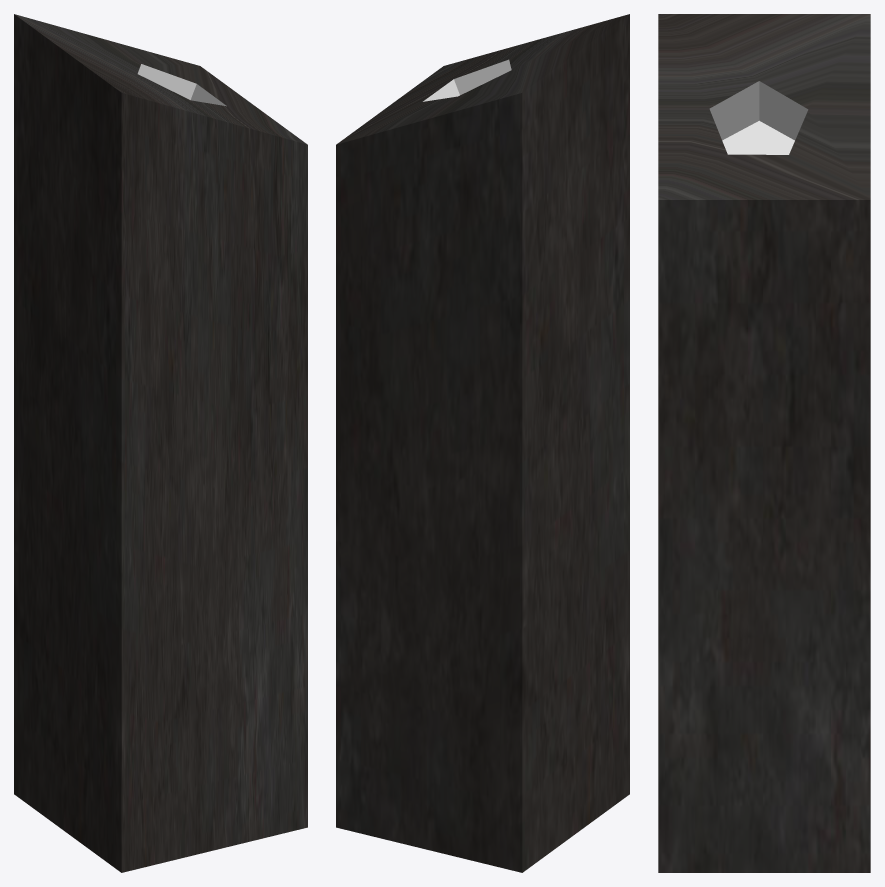
Rendered from pentaConsole.gltf.
3 renders of one model, left to right at view 1: azimuth 30°, elevation 25°; view 2: azimuth 150°, elevation 25°; view 3: azimuth 270°, elevation 25°, orthographic.
Parts seen in each view (by area): view 1: Cube.001; view 2: Cube.001; view 3: Cube.001.
Boxes of the visible parts, left/top/right/bottom form: Cube.001: left=14, top=14, right=307, bottom=872; Cube.001: left=336, top=14, right=629, bottom=872; Cube.001: left=658, top=14, right=870, bottom=872.
Bounding box in the file's own units: 2 × 8 × 2.
2 materials, 1 textured.
